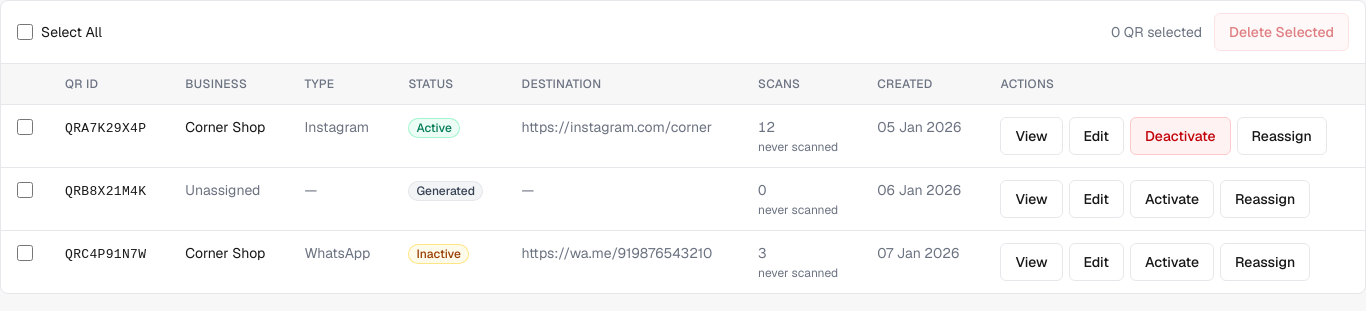
Test: selecting QR codes › counts a single row and shows the header as partly selected
Click the checkbox named "Select QRB8X21M4K" at {"x": 25, "y": 190}, box [17,182,33,198]
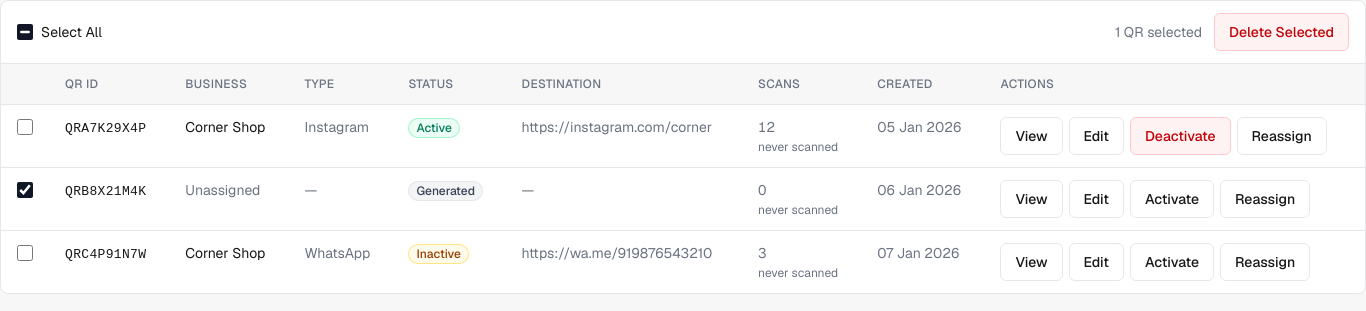
expect the checkbox named "Select QRB8X21M4K" is checked: met, box [17,182,33,198]
expect the text "1 QR selected" is shown: met, box [1115,22,1202,42]
expect the button "Delete Selected" is enabled: met, box [1214,13,1349,51]
